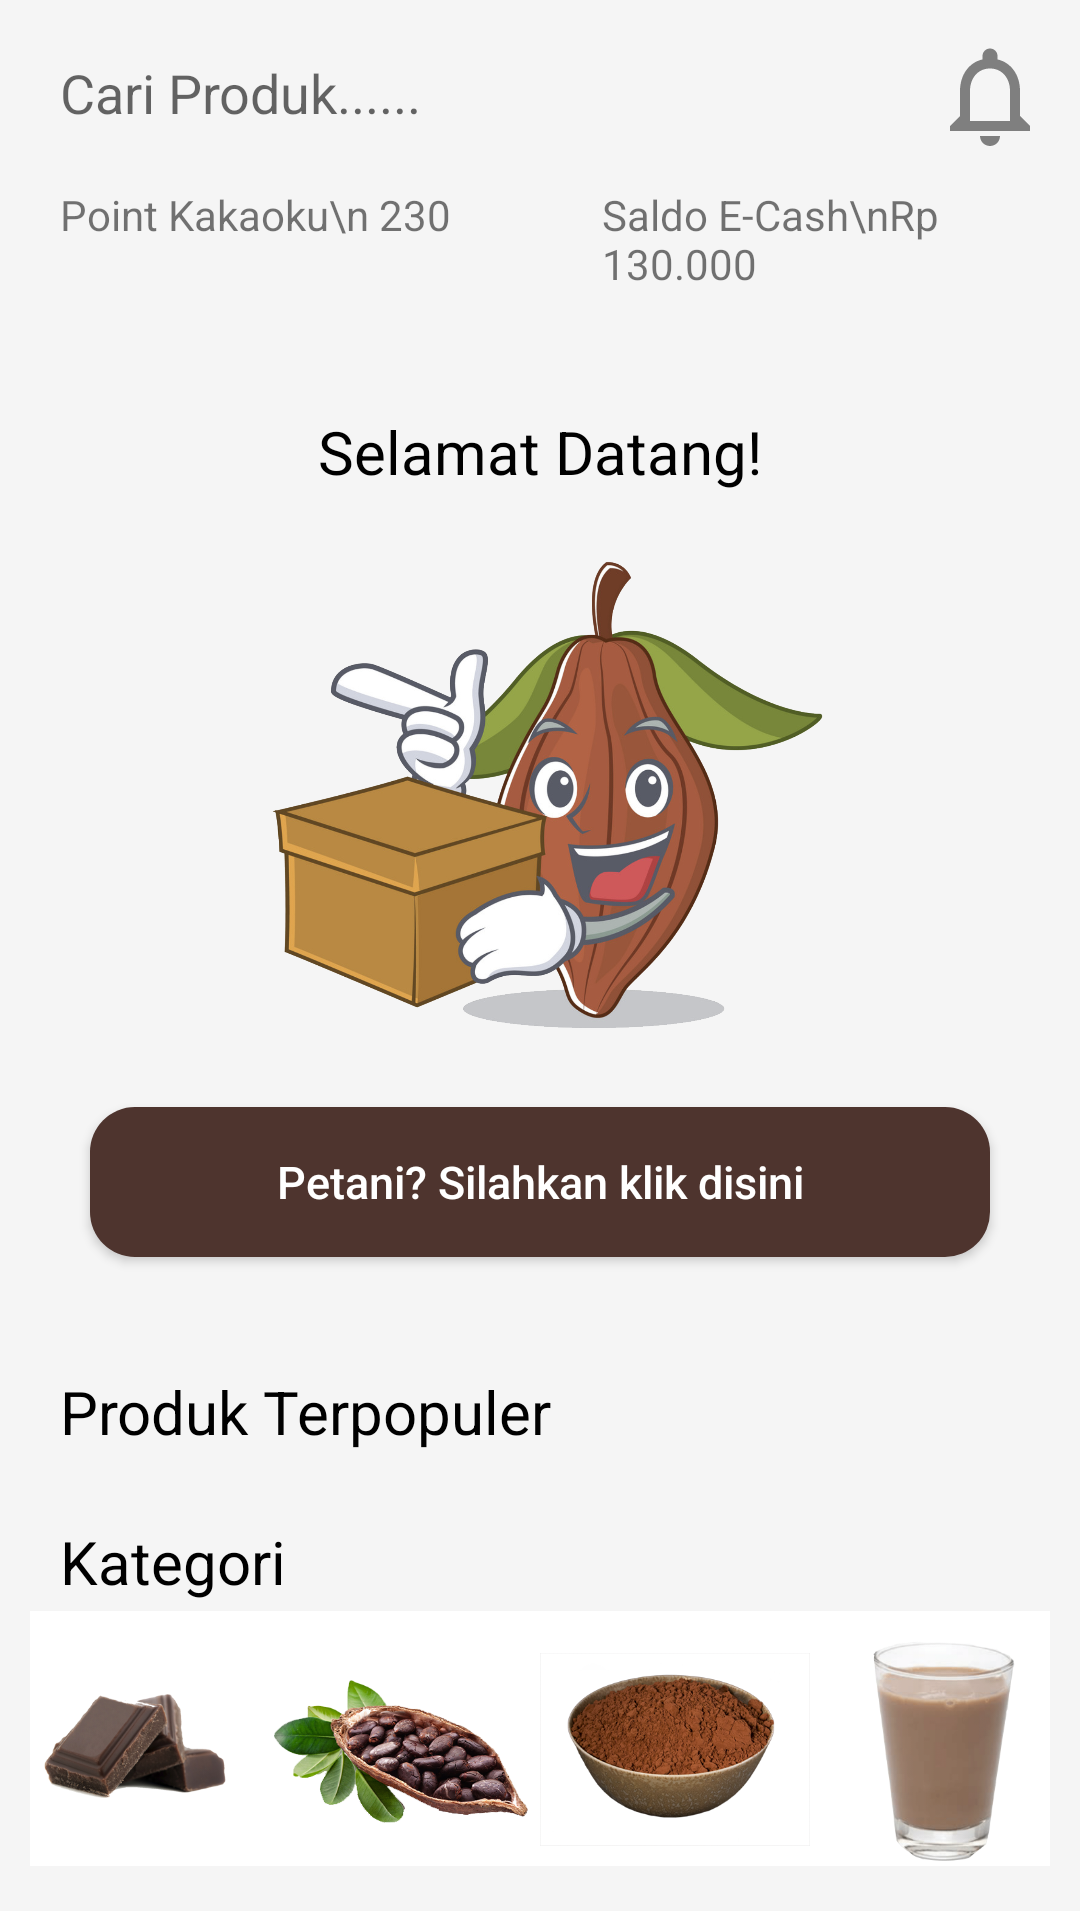

Screen size 1080px x 1920px. Icon name, then its center in pixels as [x,y]:
coklatbiji: [401,1751]
coklatbubuk: [671,1746]
notifications none: [990,97]
